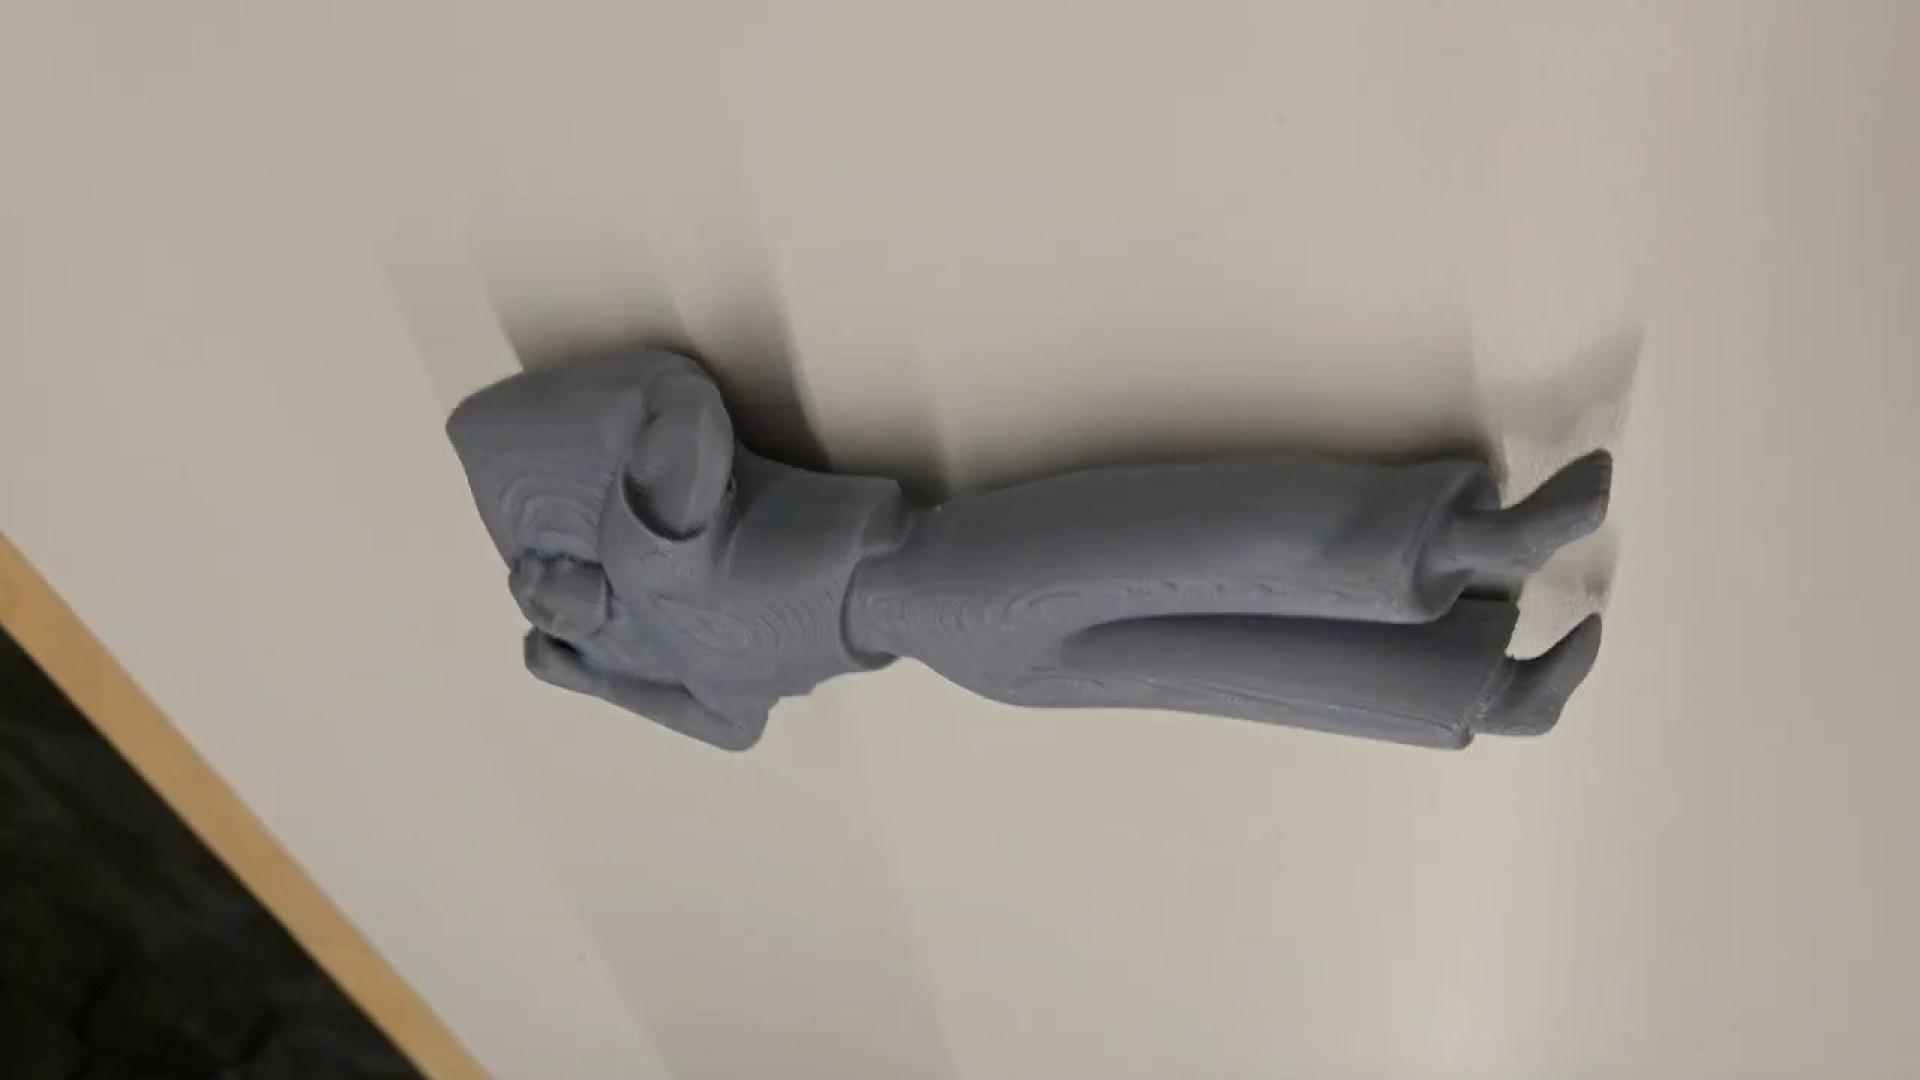Bad-style: (452, 338, 1621, 766)
